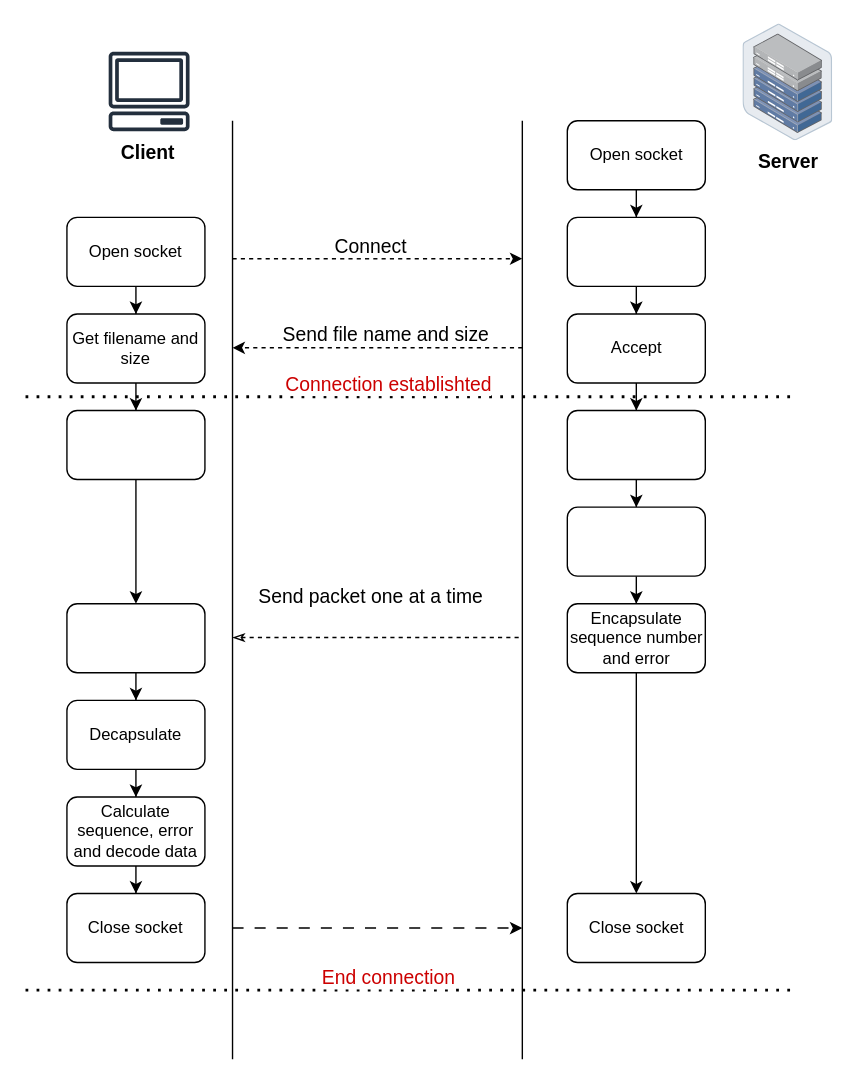
Image size: 857x1085. Some labels were removed from this diagram. Here are the shapes that lost their labels. From the top down, the centre of each, then its label:
point 635,251: Listen for connection
point 135,444: Wait
point 635,444: Divide file into packet
point 635,541: Encode
point 135,637: Receive packet
